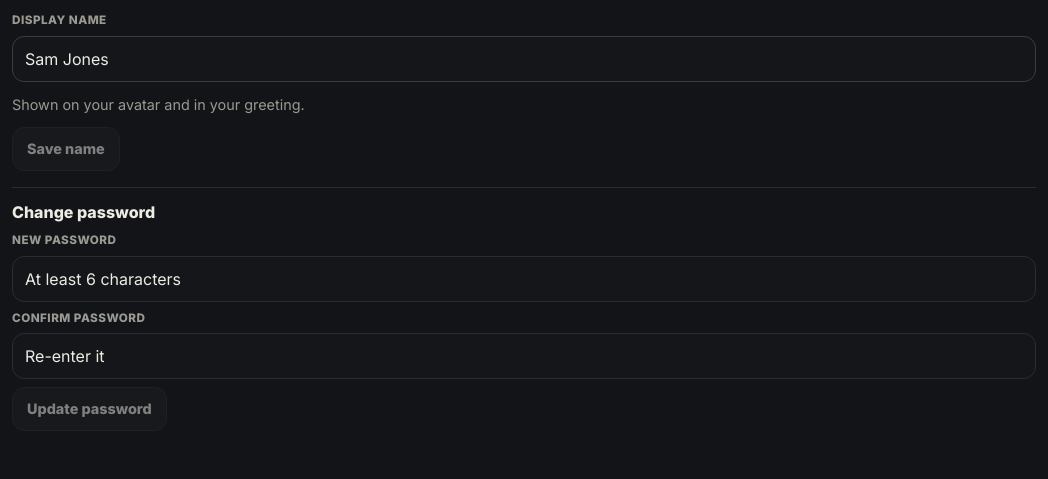
AccountSettings › rejects a short or mismatched password
The image size is (1048, 479).
In the password field with placeholder "At least 6 characters": (524, 279) [12,256,1036,302], type "abc"
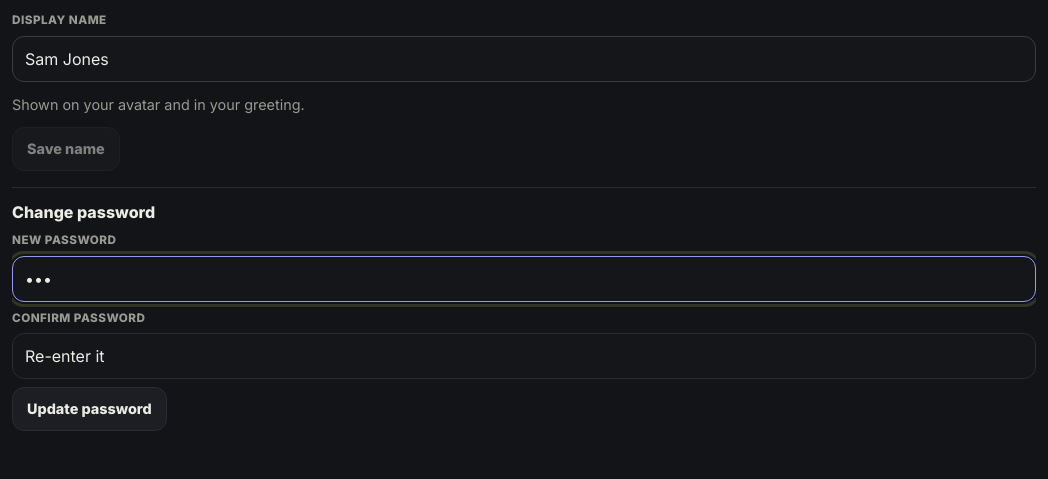
In the password field with placeholder "Re-enter it": (524, 356) [12,333,1036,379], type "abc"
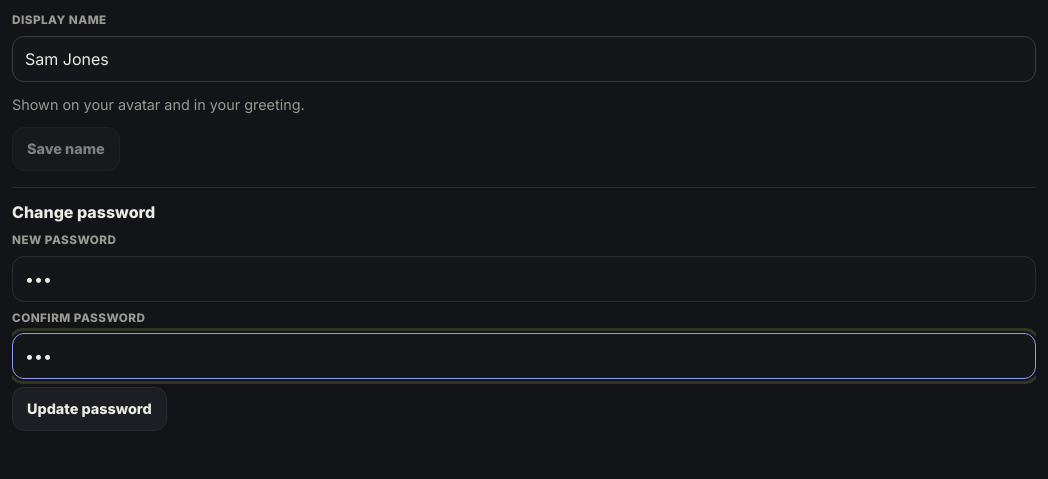
Click the button "Update password": (89, 409) [12,387,167,431]
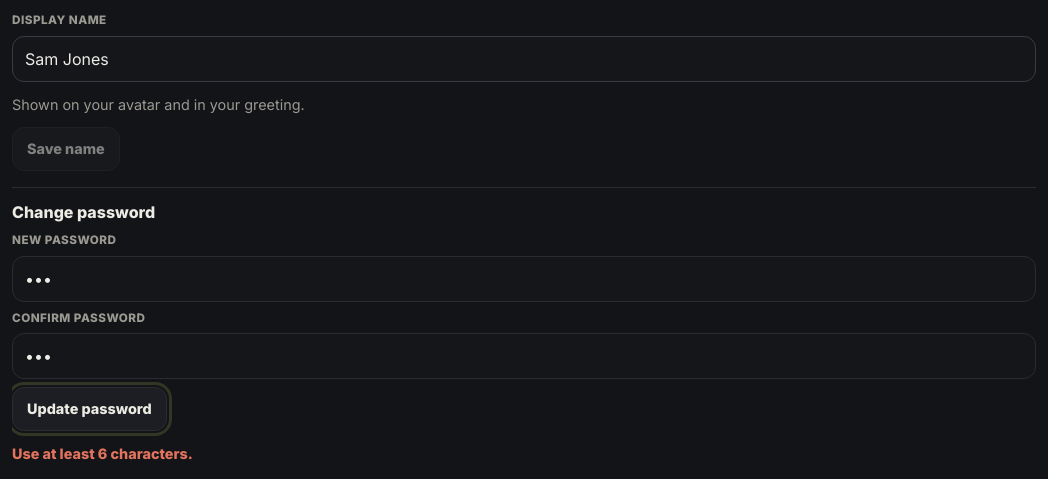
Expected: the text "Use at least 6 characters." is shown, [12,445,193,462]
In the password field with placeholder "At least 6 characters": (524, 279) [12,256,1036,302], type "secret1"
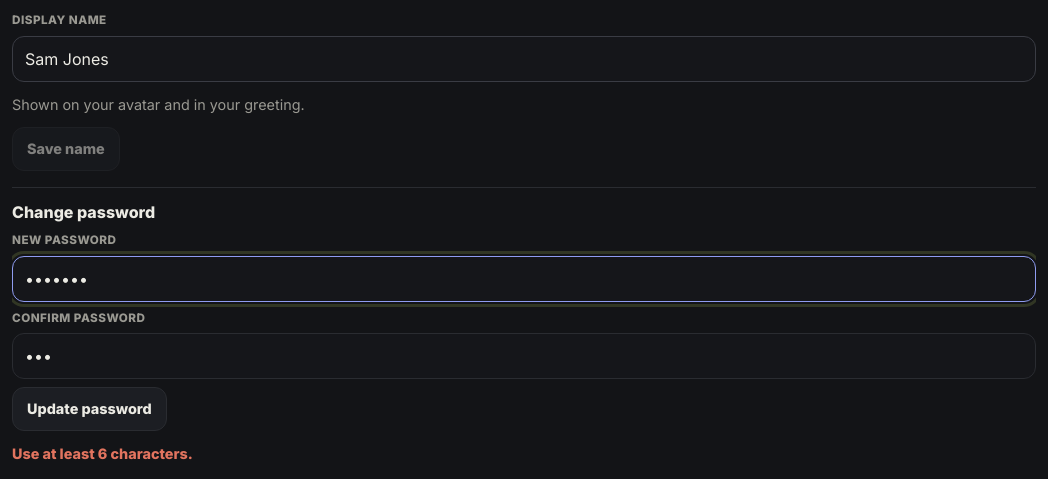
In the password field with placeholder "Re-enter it": (524, 356) [12,333,1036,379], type "secret2"
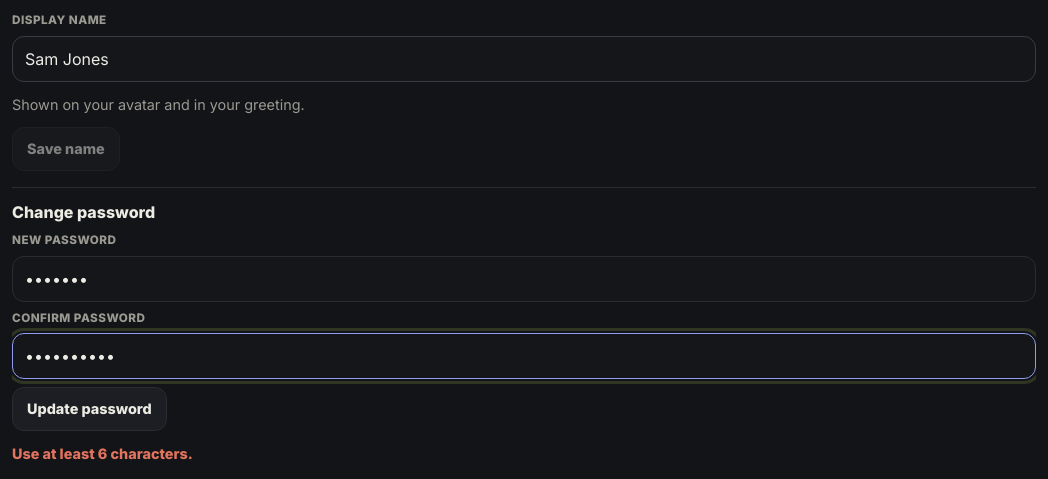
Click the button "Update password": (89, 409) [12,387,167,431]
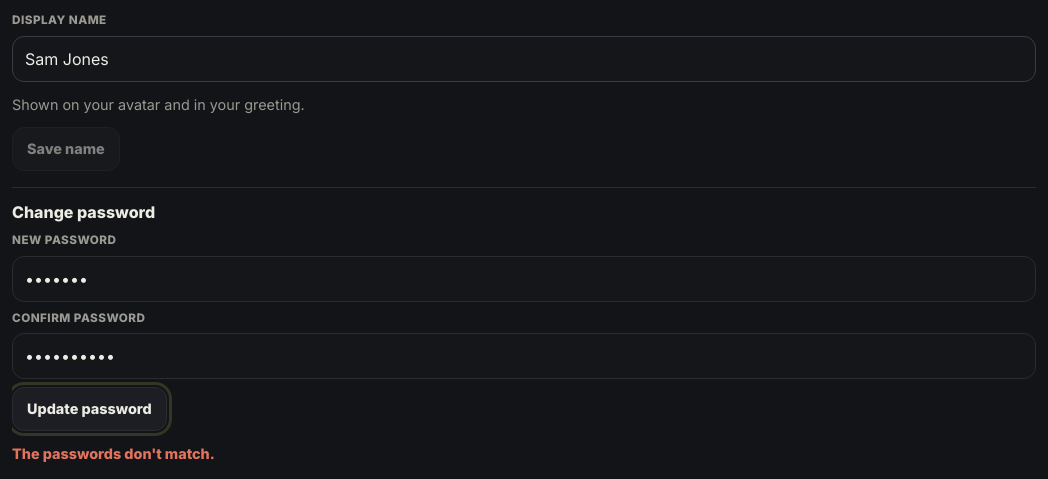
Expected: the text "The passwords don't match." is shown, [12,445,215,462]
